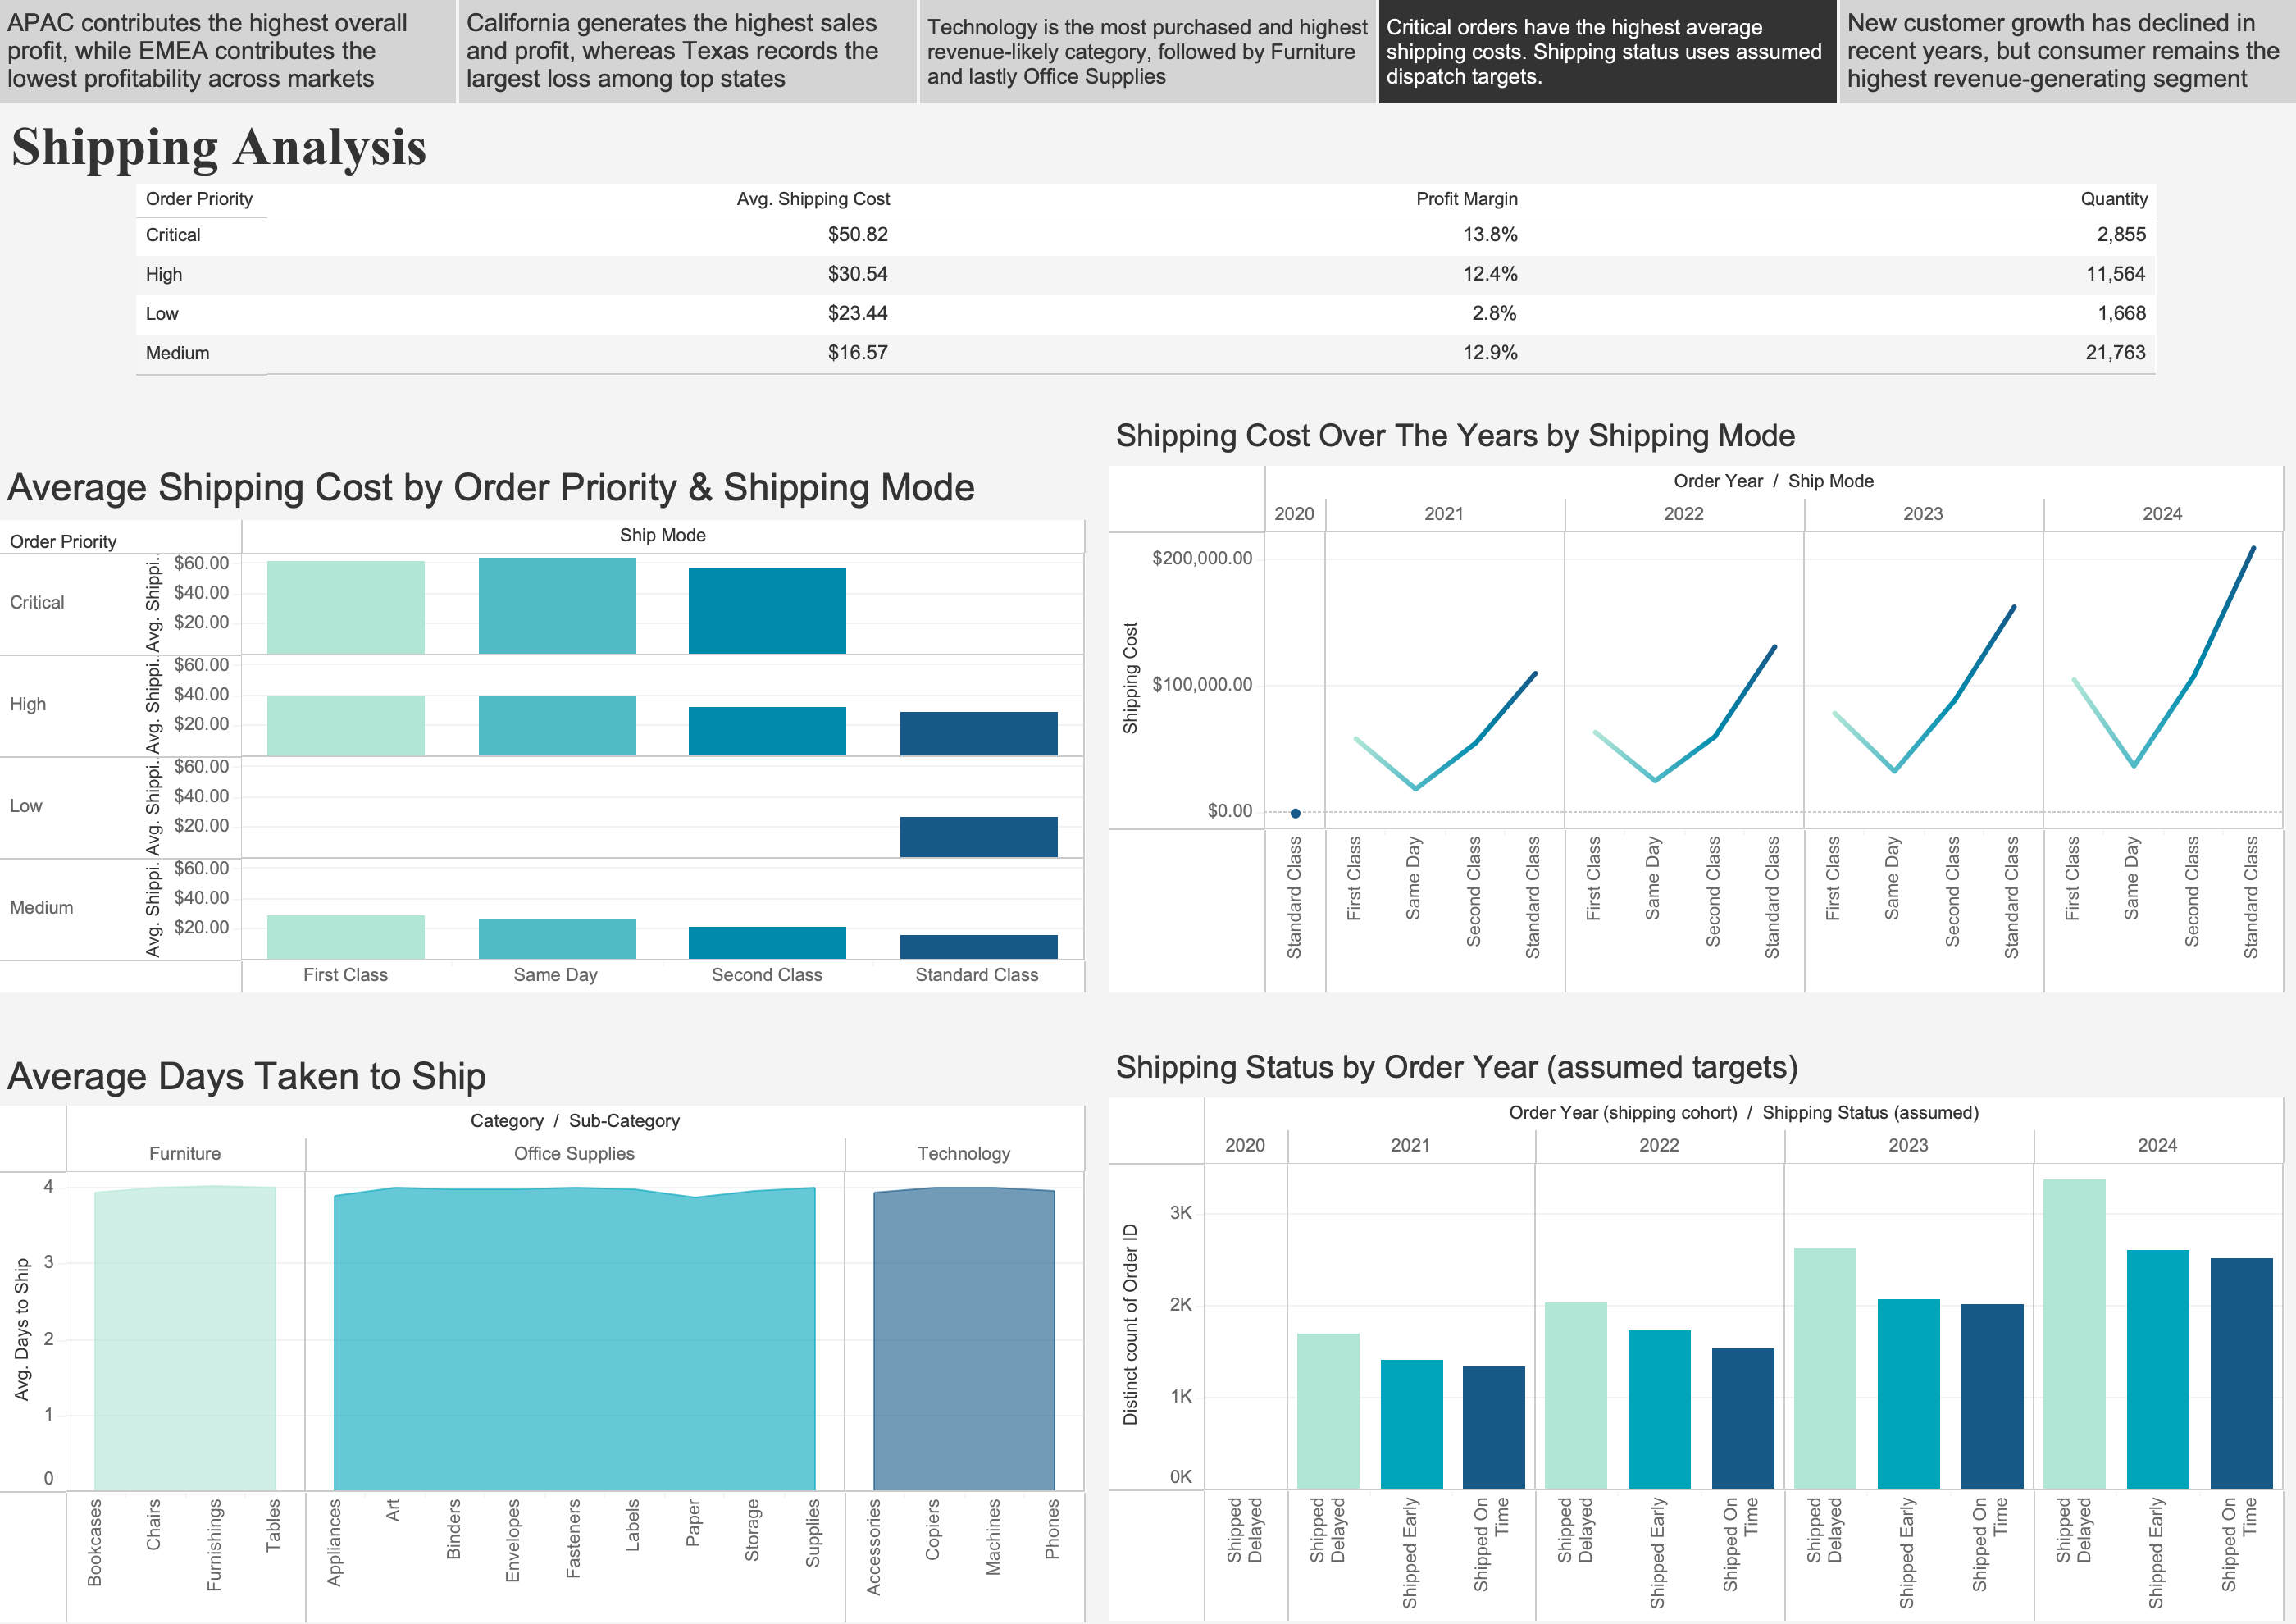

What the dashboard file says about the page in this screenshot:
{"tool":"tableau","page":{"name":"Shipping Analysis","canvas":[1400,990],"ordinal":3},"visuals":[{"type":"text","box":[12.4,10.9,272.2,60.6]},{"type":"text","box":[287,10.9,272.2,60.6]},{"type":"text","box":[561.6,10.9,272.2,60.6]},{"type":"text","box":[836.1,10.9,272.2,60.6]},{"type":"text","box":[1110.7,10.9,272.2,60.6]},{"type":"text","box":[14,75.4,1368.9,43.5]},{"type":"worksheet","title":"US priority summary - source screenshot scope","mark":"Text","rows":["Order Priority"],"box":[93.3,111.1,1205.6,120.4]},{"type":"text","box":[674.3,249.4,701.6,34.2]},{"type":"text","box":[12.4,276.6,647.9,38.9]},{"type":"worksheet","title":"Shipping cost over years by mode","mark":"Line","rows":["Shipping Cost"],"cols":["Order Year","Ship Mode"],"box":[674.3,283.6,701.6,309.3]},{"type":"worksheet","title":"Shipping cost by priority and mode","mark":"Bar","rows":["Order Priority","Shipping Cost"],"cols":["Ship Mode"],"box":[12.4,315.5,647.9,277.4]},{"type":"text","box":[674.3,619.3,701.6,34.2]},{"type":"text","box":[12.4,624,647.9,34.2]},{"type":"worksheet","title":"Shipping status - assumed mode targets","mark":"Bar","rows":["Order ID"],"cols":["Order Year (shipping cohort)","Shipping Status (assumed)"],"box":[674.3,653.5,701.6,308.5]},{"type":"worksheet","title":"Days taken to ship by sub-category","mark":"Area","rows":["Days to Ship"],"cols":["Category","Sub-Category"],"box":[12.4,658.2,647.9,303.8]}]}

Visuals, with their boxes in screenshot pixels (x1, y1, x2, y2), scaled from the page's 1400x990 canvas onto the 2296x1624 screenshot:
text: BBox(20, 18, 467, 117)
text: BBox(471, 18, 917, 117)
text: BBox(921, 18, 1368, 117)
text: BBox(1371, 18, 1818, 117)
text: BBox(1821, 18, 2268, 117)
text: BBox(23, 124, 2268, 195)
"US priority summary - source screenshot scope" worksheet (Text marks): BBox(153, 182, 2130, 380)
text: BBox(1106, 409, 2257, 465)
text: BBox(20, 454, 1083, 518)
"Shipping cost over years by mode" worksheet (Line marks): BBox(1106, 465, 2257, 973)
"Shipping cost by priority and mode" worksheet (Bar marks): BBox(20, 518, 1083, 973)
text: BBox(1106, 1016, 2257, 1072)
text: BBox(20, 1024, 1083, 1079)
"Shipping status - assumed mode targets" worksheet (Bar marks): BBox(1106, 1072, 2257, 1578)
"Days taken to ship by sub-category" worksheet (Area marks): BBox(20, 1079, 1083, 1578)
